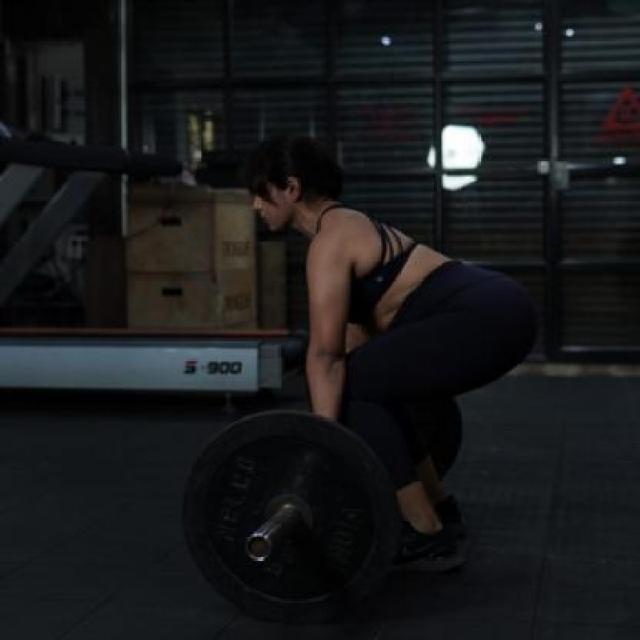Barbell: (240, 528, 274, 566)
